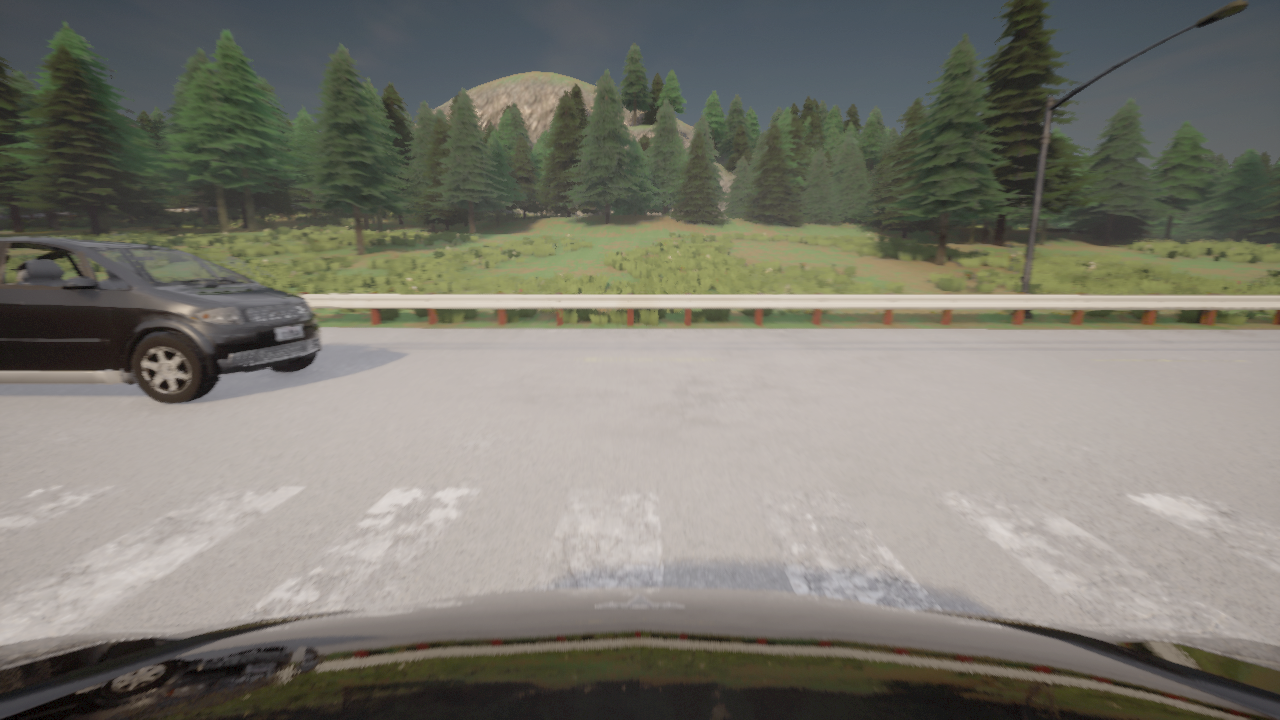cyclist: (0, 588, 1279, 719), (0, 237, 321, 404)
